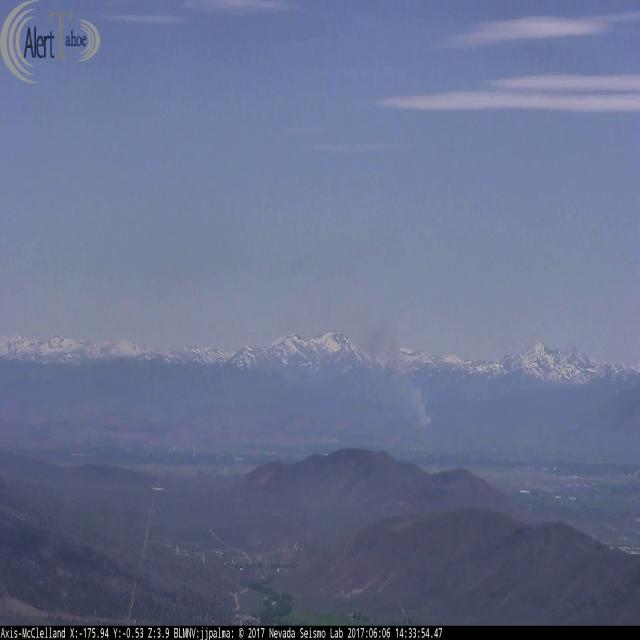smoke: (362, 313, 434, 425)
